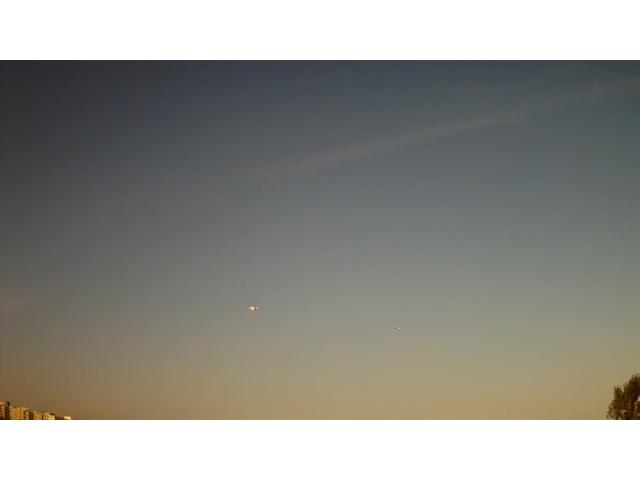Anti-Drone: (236, 301, 266, 316)
